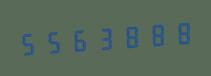eight: (117, 19, 141, 53), (142, 17, 166, 51), (167, 15, 191, 49)
five: (17, 26, 41, 60), (42, 24, 66, 58)
six: (67, 22, 91, 56)
three: (92, 20, 116, 55)
